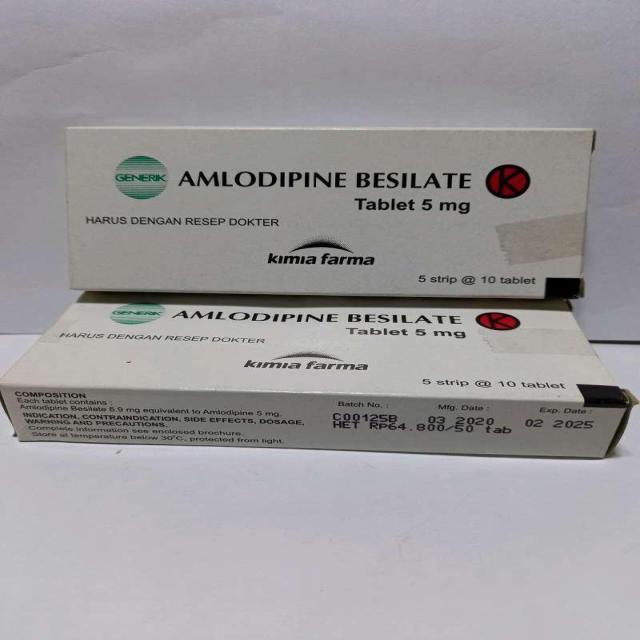drug-name: (177, 167, 471, 193)
